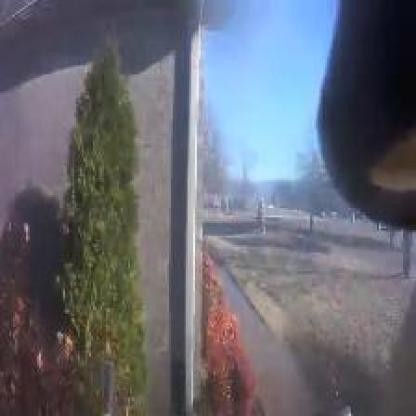other: (192, 245, 261, 406)
